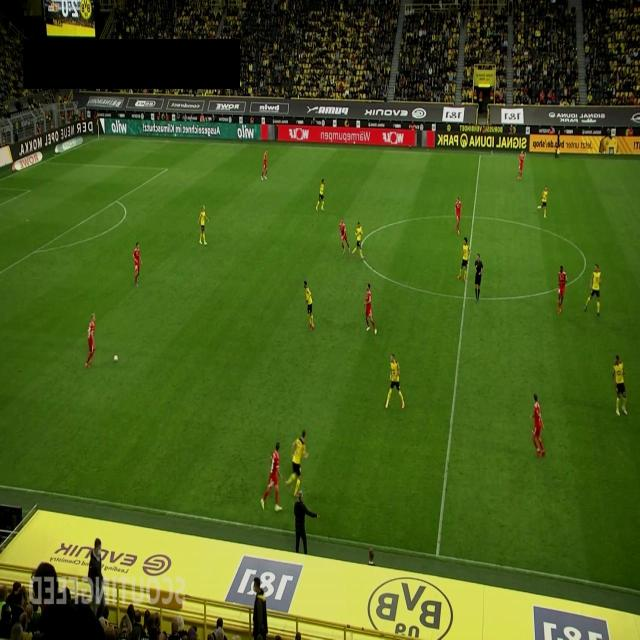ball: (114, 354, 118, 362)
player: (284, 428, 309, 498), (260, 442, 282, 512), (384, 354, 406, 411), (530, 392, 546, 456), (612, 354, 628, 416), (584, 263, 602, 317), (363, 283, 377, 335), (457, 237, 471, 281), (303, 280, 315, 331), (85, 313, 96, 368), (350, 221, 365, 261), (197, 204, 210, 246), (558, 265, 568, 315), (132, 242, 143, 286), (339, 217, 350, 255), (538, 186, 548, 220), (315, 178, 325, 212), (454, 196, 462, 235), (517, 150, 526, 180), (260, 150, 268, 180)
referee: (474, 253, 484, 303), (553, 130, 561, 160)
